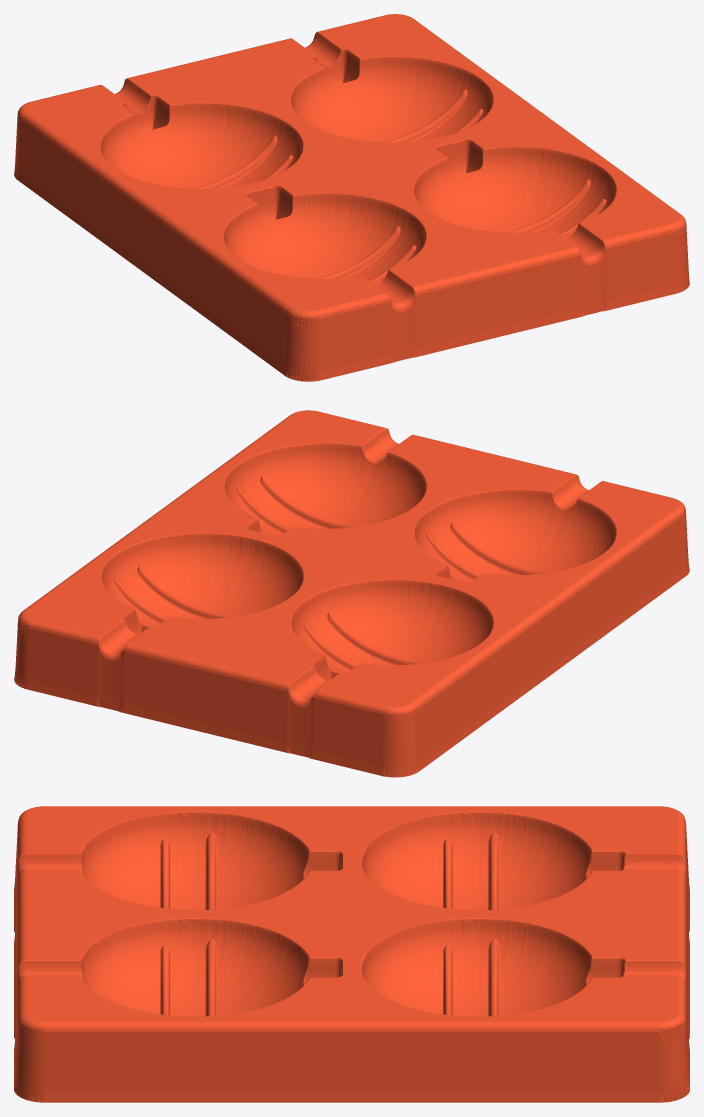
File: mold.glb
3 views of the same model, one above another, from view 1: azimuth 30°, elevation 25°; view 2: azimuth 150°, elevation 25°; view 3: azimuth 270°, elevation 25° (orthographic). The views are drawn at different scales.
Visible parts, largest first — view 1: geometry_0; view 2: geometry_0; view 3: geometry_0.
Boxes of the visible parts, x1=… form: geometry_0: x1=14, y1=14, x2=689, y2=381; geometry_0: x1=14, y1=410, x2=689, y2=777; geometry_0: x1=14, y1=806, x2=689, y2=1102.
Bounding box in the file's own units: 0.1548 × 0.0245 × 0.1968.
